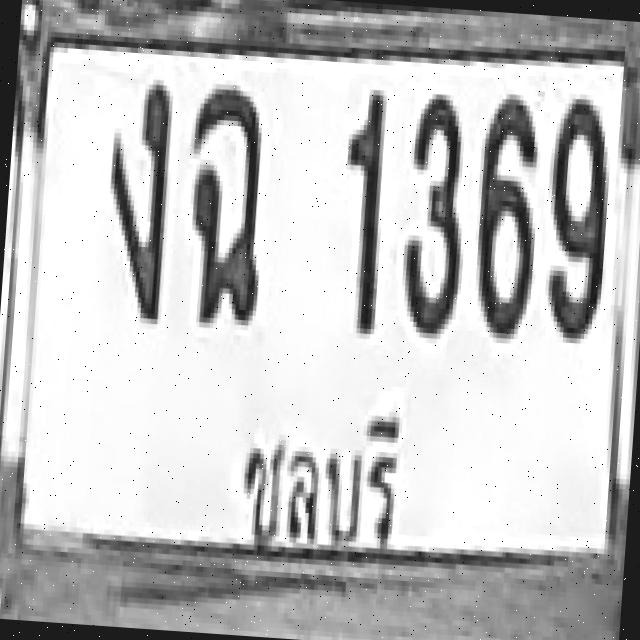1: (333, 82, 389, 334)
16NgorNgu: (98, 77, 174, 319)
18ChorChing: (178, 82, 272, 326)
3: (398, 87, 471, 334)
6: (468, 92, 541, 334)
9: (538, 92, 614, 340)
Chonburi: (227, 390, 419, 574)
